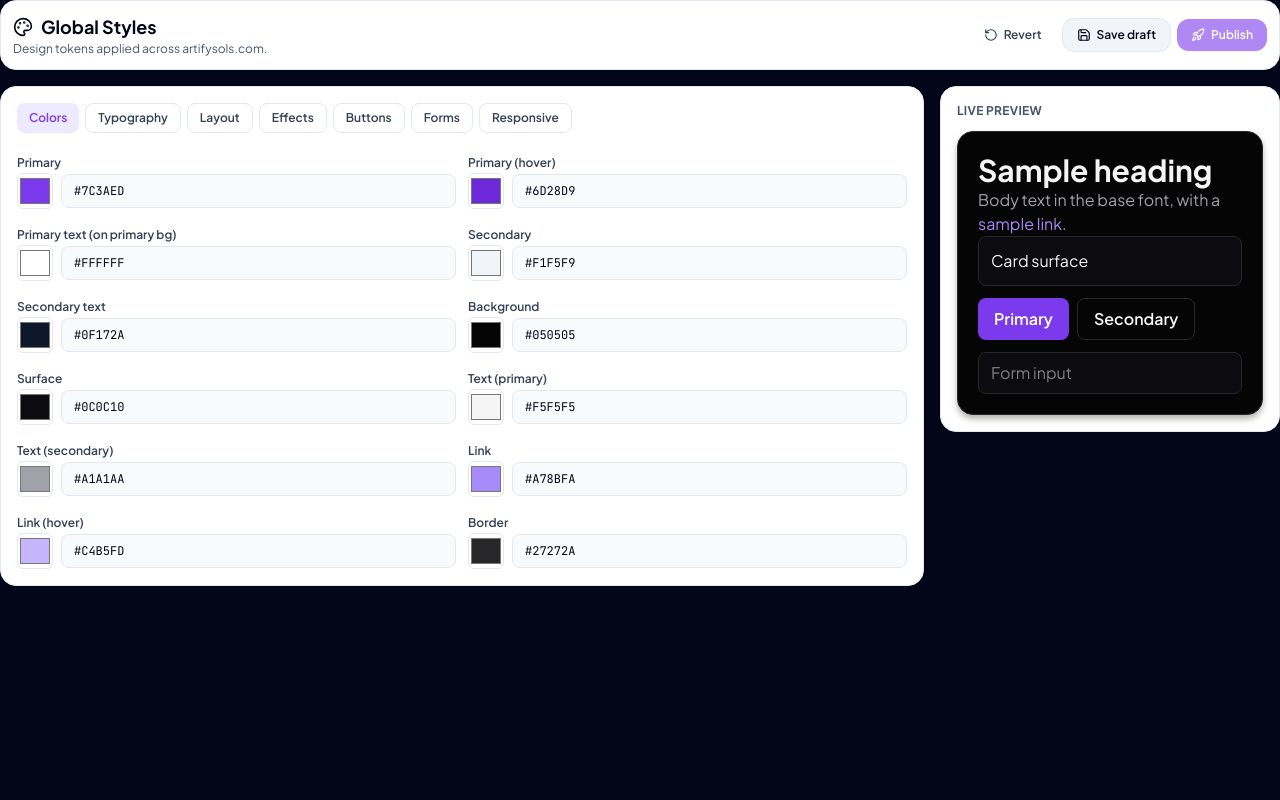
Test: GlobalStylesPage › switches to the Typography section and shows its fields
Expected: the button "Colors" is shown, [17,103,79,133]
What coordinates should you click on to do the following:
click the button "Typography"
I would click on:
 (133, 118)
Its box is [85,103,181,133].
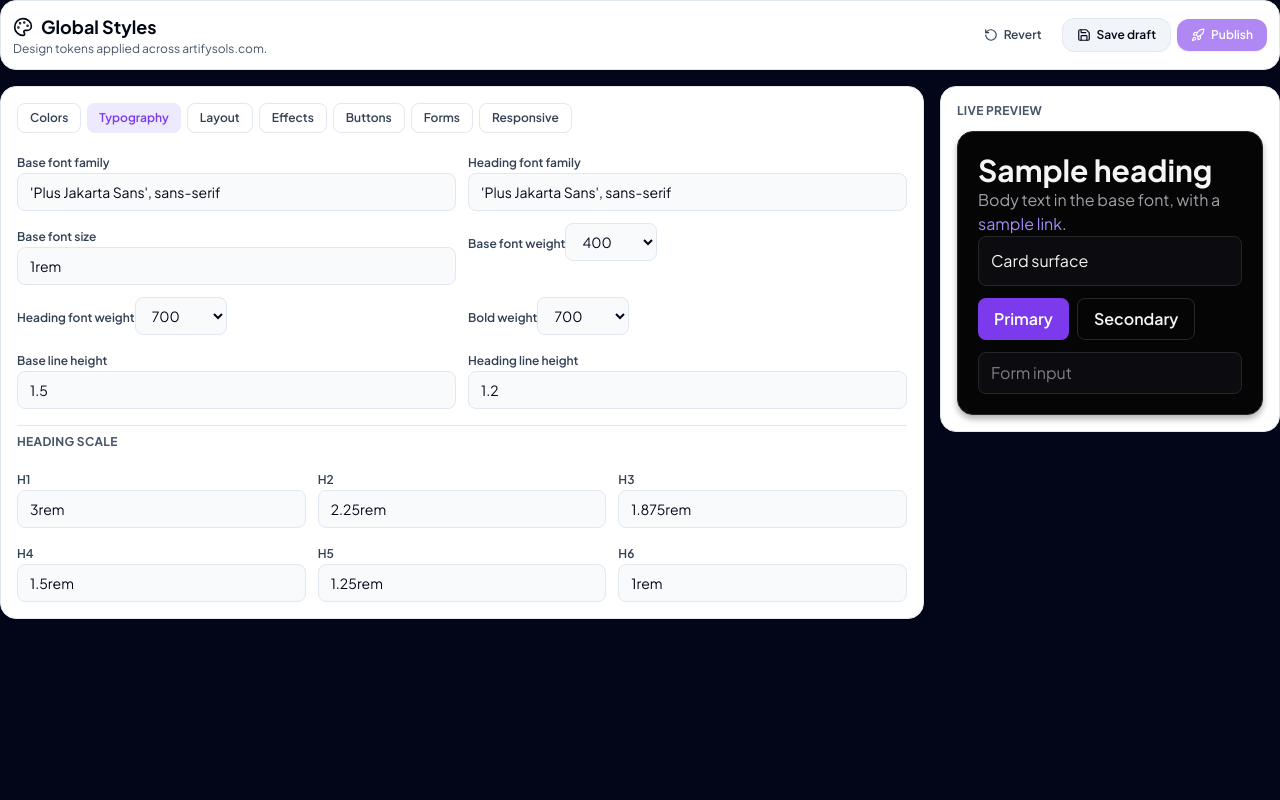
Now the field showing "'Plus Jakarta Sans', sans-serif" is shown, box [17,173,456,211]
